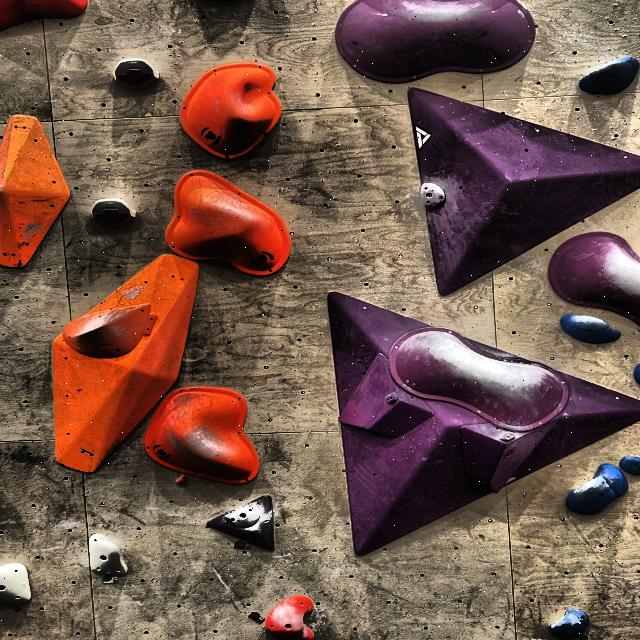Downclimb: (114, 58, 159, 90), (92, 197, 135, 228)
Hold: (166, 170, 290, 276), (144, 387, 259, 484), (180, 62, 282, 159), (62, 305, 151, 359), (207, 496, 275, 551), (566, 464, 629, 515), (0, 0, 88, 31), (579, 56, 640, 95), (265, 596, 313, 640), (560, 314, 621, 344), (89, 533, 127, 578), (549, 608, 589, 640), (0, 563, 31, 604), (226, 504, 261, 528), (420, 182, 446, 211), (619, 455, 640, 475), (176, 474, 189, 485), (500, 432, 514, 441), (386, 393, 397, 403)
Macro: (52, 255, 199, 473), (390, 329, 568, 430), (335, 0, 534, 83), (0, 116, 70, 269), (549, 232, 640, 326)
Volume: (335, 291, 640, 557), (410, 90, 640, 295), (338, 355, 431, 437), (464, 422, 557, 493)
start_tag: (103, 575, 118, 584), (249, 612, 261, 622), (577, 632, 590, 640), (13, 605, 23, 612)
